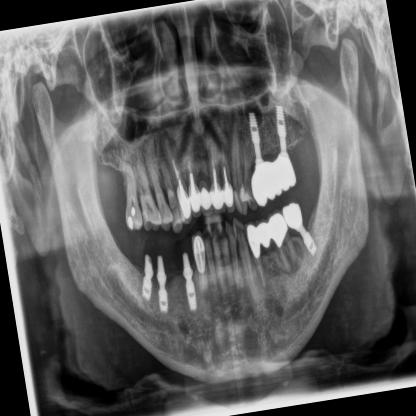Bicon: (182, 274, 198, 312), (300, 226, 318, 259), (272, 105, 288, 138), (247, 110, 260, 145), (156, 288, 170, 314)
